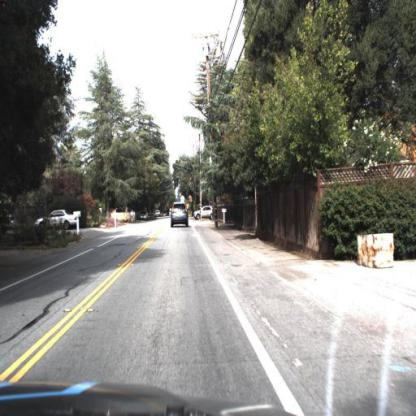car: (36, 208, 81, 232), (170, 202, 190, 232), (193, 205, 214, 223)
